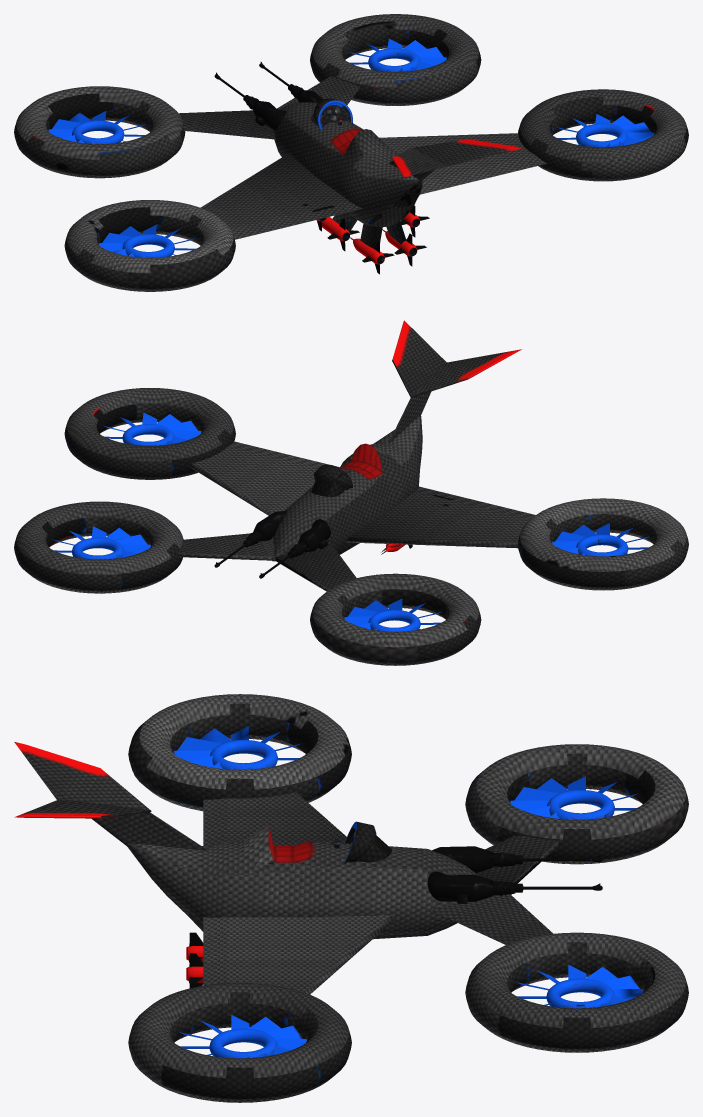
The model's file is nighthawk.gltf.
3 renders of one model, top to bottom at view 1: azimuth 30°, elevation 25°; view 2: azimuth 150°, elevation 25°; view 3: azimuth 270°, elevation 25°, orthographic. The views are drawn at different scales.
Parts seen in each view (by area): view 1: Circle, Cylinder, Cylinder.001; view 2: Circle, Cylinder.001; view 3: Circle, Cylinder.001, Cylinder.
Part boxes in pixels (left/top/right/bottom): Circle: left=14, top=14, right=688, bottom=291; Cylinder: left=316, top=205, right=429, bottom=274; Cylinder.001: left=214, top=62, right=323, bottom=130; Circle: left=14, top=320, right=688, bottom=665; Cylinder.001: left=214, top=510, right=330, bottom=578; Circle: left=14, top=694, right=688, bottom=1102; Cylinder.001: left=427, top=846, right=602, bottom=903; Cylinder: left=186, top=932, right=203, bottom=988.
Bounding box in the file's own units: 179 × 44.61 × 133.
Materials: 3 (3 with a texture image).
